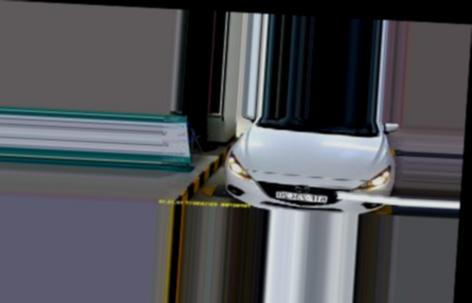License_Plate: (275, 191, 326, 202)
